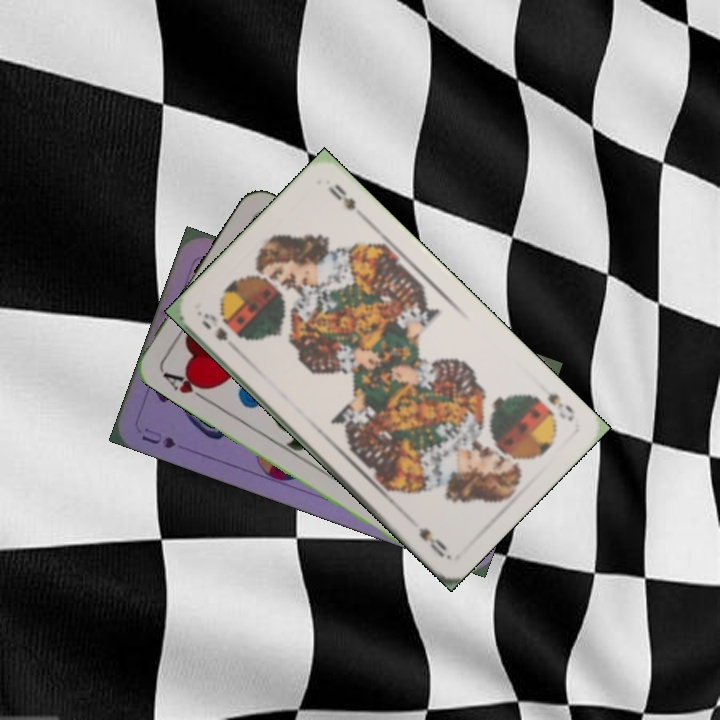HA: (158, 367, 213, 405)
SO: (543, 389, 578, 424), (197, 309, 230, 344)
SU: (137, 423, 179, 451)
